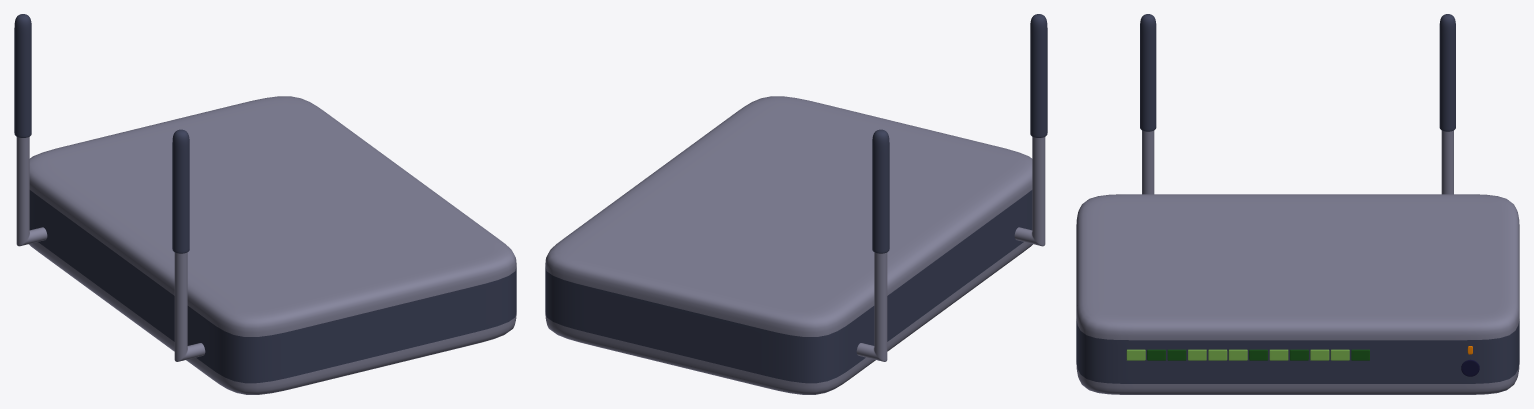
Rendered from Router.glb.
3 views of the same model, side by side, from view 1: azimuth 30°, elevation 25°; view 2: azimuth 150°, elevation 25°; view 3: azimuth 270°, elevation 25° (orthographic). The views are drawn at different scales.
Parts seen in each view (by area): view 1: Router.001; view 2: Router.001; view 3: Router.001.
Part boxes in pixels (left/top/right/bottom): Router.001: left=14, top=14, right=516, bottom=394; Router.001: left=545, top=14, right=1047, bottom=394; Router.001: left=1076, top=14, right=1519, bottom=394.
Bounding box in the file's own units: 4.89 × 3.78 × 6.16.
